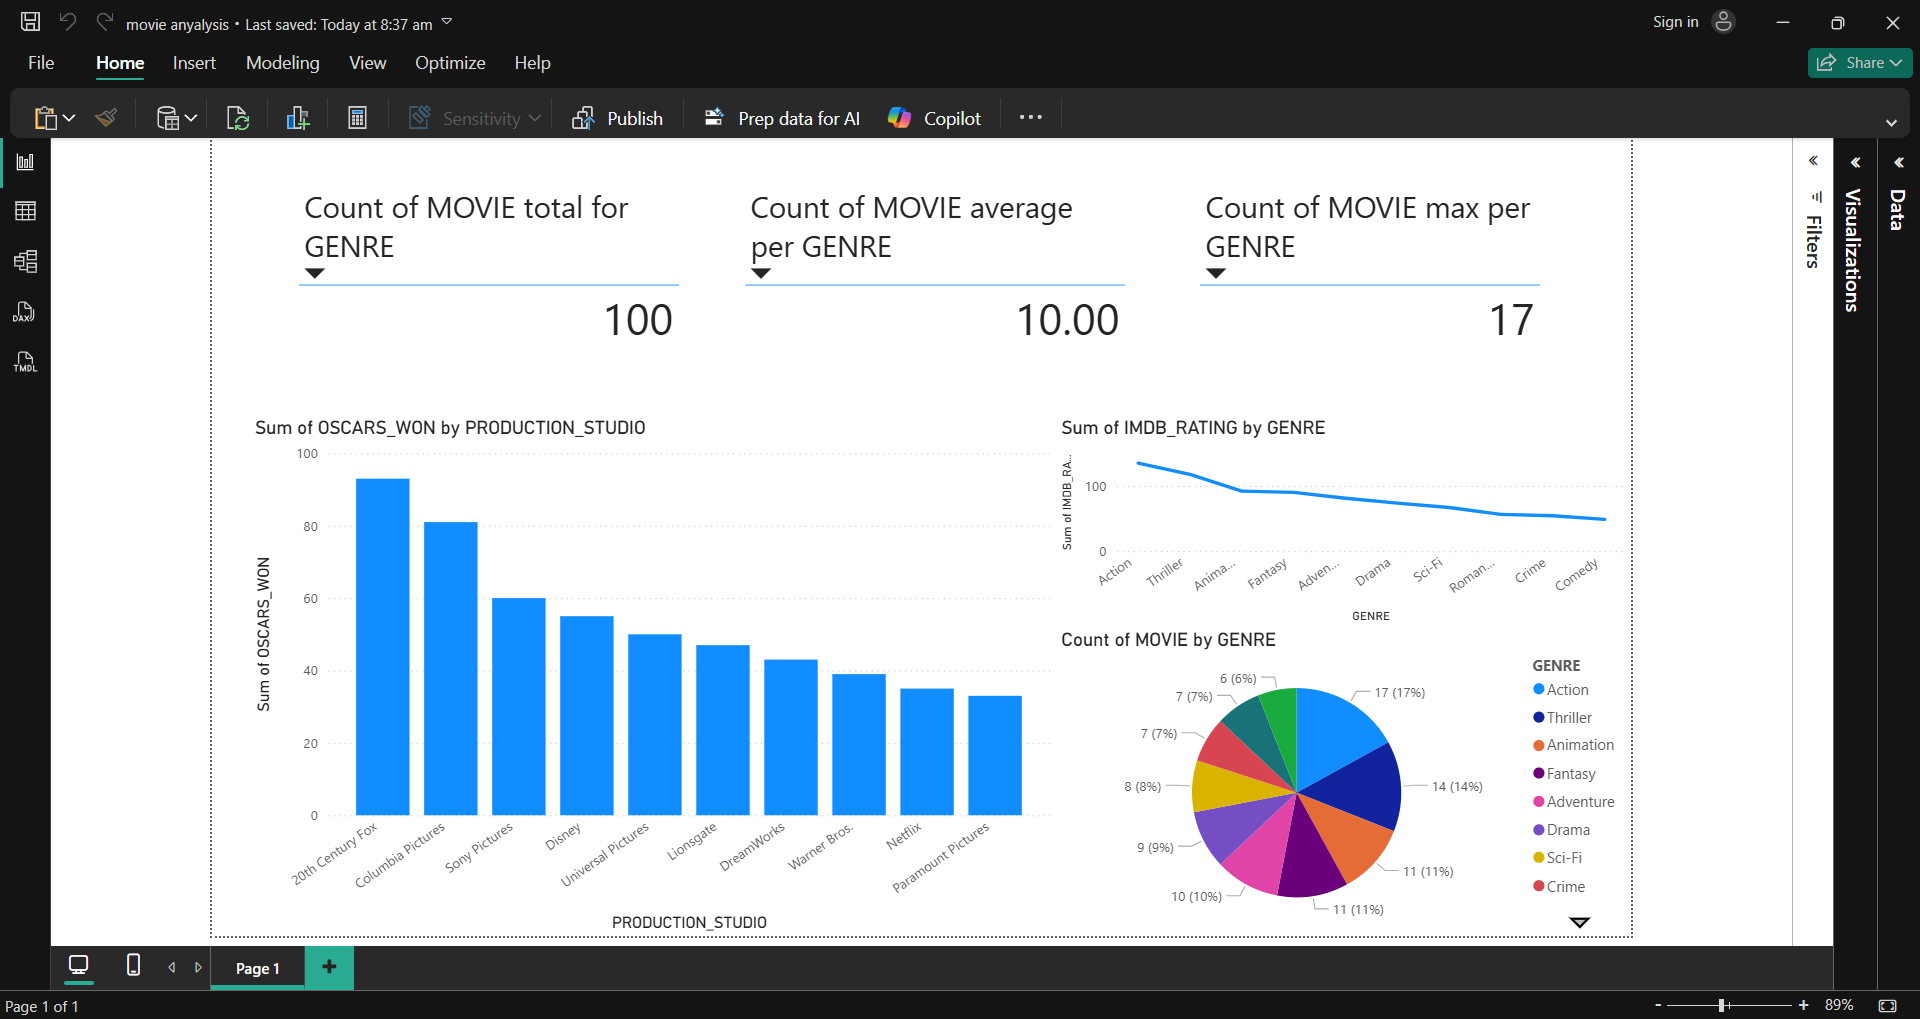

The dashboard page shown, as its layout file describes it:
{"tool":"powerbi","page":{"name":"Page 1","canvas":[1280,720],"ordinal":0},"visuals":[{"type":"tableEx","fields":{"Values":["Sheet1.Count of MOVIE average per GENRE"]},"box":[474.5,37.5,363.5,194.6],"z":0},{"type":"tableEx","fields":{"Values":["Sheet1.Count of MOVIE max per GENRE"]},"box":[884.5,37.3,328.4,181.6],"z":1},{"type":"pieChart","fields":{"Category":["Sheet1.GENRE"],"Y":["CountNonNull(Sheet1.MOVIE)"]},"box":[761.2,442,518.8,278.2],"z":2},{"type":"columnChart","fields":{"Category":["Sheet1.PRODUCTION_STUDIO"],"Y":["Sum(Sheet1.OSCARS_WON)"]},"box":[34.1,250.9,727,469.3],"z":3},{"type":"lineChart","fields":{"Category":["Sheet1.GENRE"],"Y":["Sum(Sheet1.IMDB_RATING)"]},"box":[761.2,250.9,518.8,191.1],"z":4},{"type":"tableEx","fields":{"Values":["Sheet1.Count of MOVIE total for GENRE"]},"box":[71.7,37.5,363.5,180.9],"z":5}]}

Visuals, with their boxes on the page's 1280x720 design canvas (x1, y1, x2, y2). These are canvas units, not pixel positions in the 1920x1019 screenshot, which may show the page scaled, cropped or inside an application window:
tableEx - Sheet1.Count of MOVIE average per GENRE: x1=474, y1=38, x2=838, y2=232
tableEx - Sheet1.Count of MOVIE max per GENRE: x1=884, y1=37, x2=1213, y2=219
pieChart - Sheet1.GENRE x CountNonNull(Sheet1.MOVIE): x1=761, y1=442, x2=1280, y2=720
columnChart - Sheet1.PRODUCTION_STUDIO x Sum(Sheet1.OSCARS_WON): x1=34, y1=251, x2=761, y2=720
lineChart - Sheet1.GENRE x Sum(Sheet1.IMDB_RATING): x1=761, y1=251, x2=1280, y2=442
tableEx - Sheet1.Count of MOVIE total for GENRE: x1=72, y1=38, x2=435, y2=218
